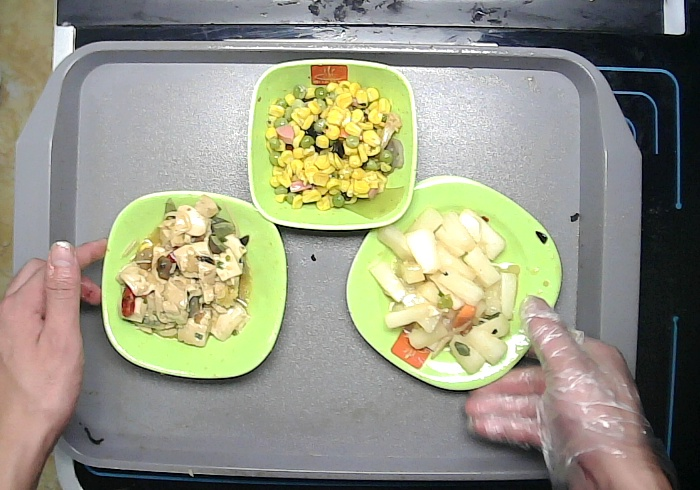SHKJ-Lv_Se_Cai_Die: (100, 188, 289, 378)
SHKJ-Lv_Se_Si_Fang_Cai_Die: (343, 171, 564, 391)
SHKJ-Lv_Se_Xiao_Fang_Die: (246, 60, 418, 232)
